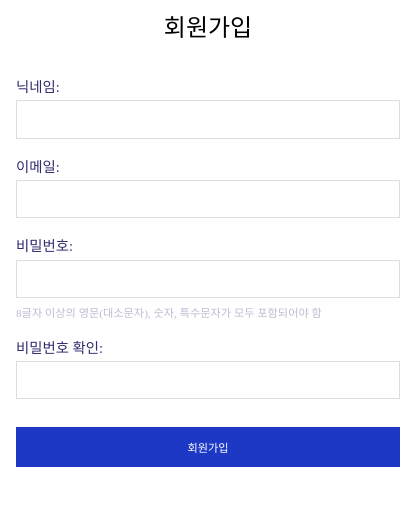
Scenario: RegisterForm › 이메일을 입력하지 않고 회원가입 버튼을 클릭했을 경우 › 이메일을 입력해주세요 에러메시지를 볼 수 있다
The image size is (417, 505).
In the field labelled "닉네임:": point(208, 119) [16,100,400,139], type "이것은 닉네임"
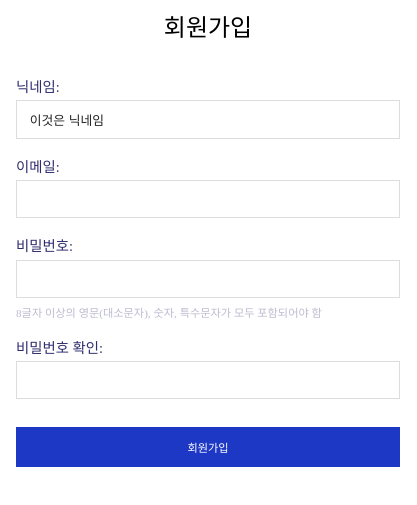
In the password field labelled "비밀번호:": point(208, 279) [16,260,400,298], type "Password1234!"
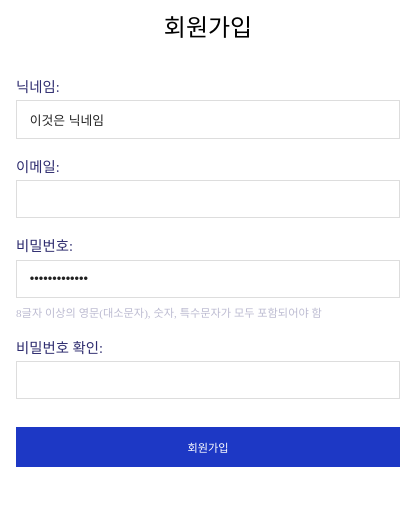
In the password field labelled "비밀번호 확인:": point(208, 380) [16,361,400,399], type "Password1234!"
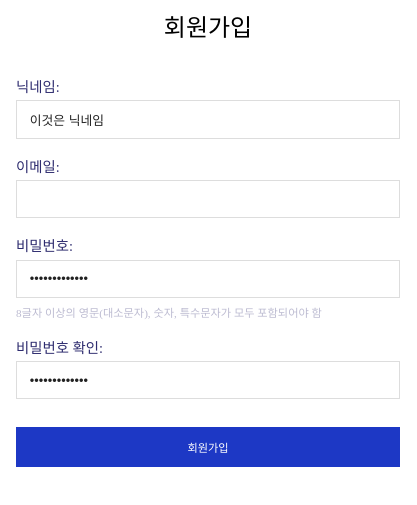
Click the button "회원가입": point(208, 447) [16,427,400,466]
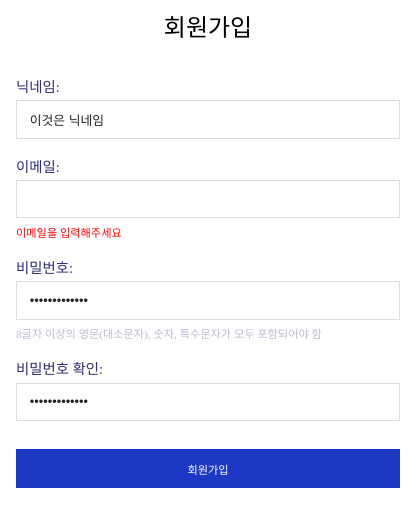
Expected: the text "이메일을 입력해주세요" is shown, [16,227,122,239]
